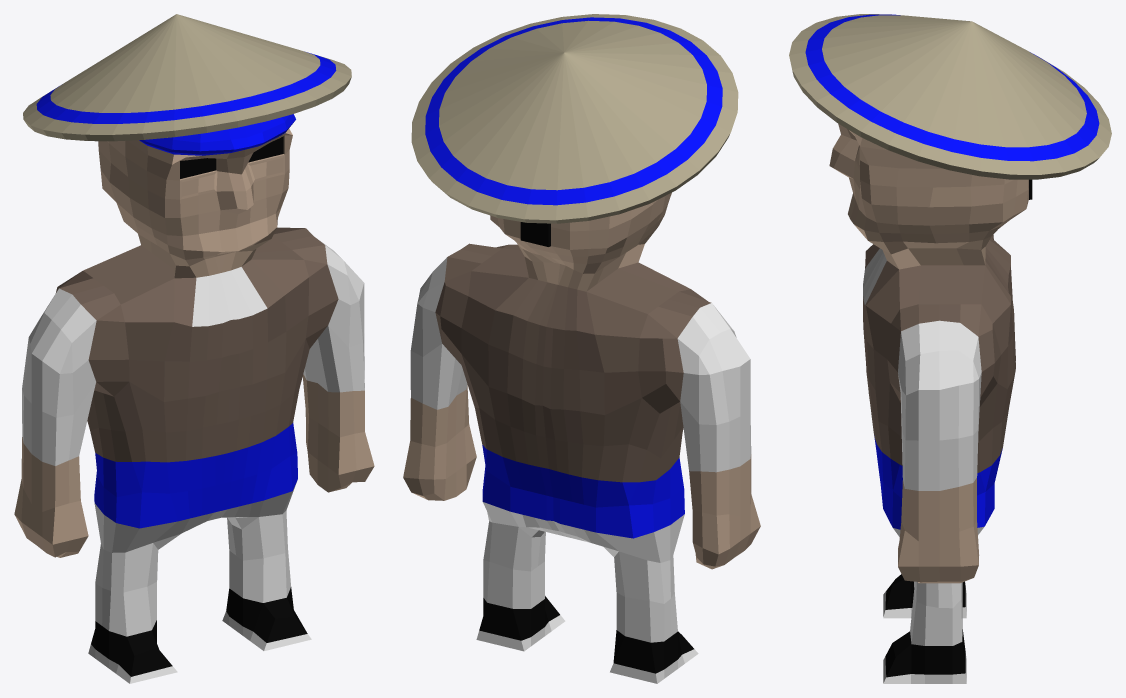
The model's file is Crip 1.fbx.
The picture shows the model from 3 angles, left to right: view 1: azimuth 30°, elevation 25°; view 2: azimuth 150°, elevation 25°; view 3: azimuth 270°, elevation 25°; orthographic projection.
Visible parts, largest first — view 1: Cube.003; view 2: Cube.003; view 3: Cube.003.
Boxes of the visible parts, x1,y1,x2,y2 form: Cube.003: (14,14,374,683); Cube.003: (403,14,760,683); Cube.003: (789,14,1111,683).
Bounding box in the file's own units: 335 × 612 × 290.
